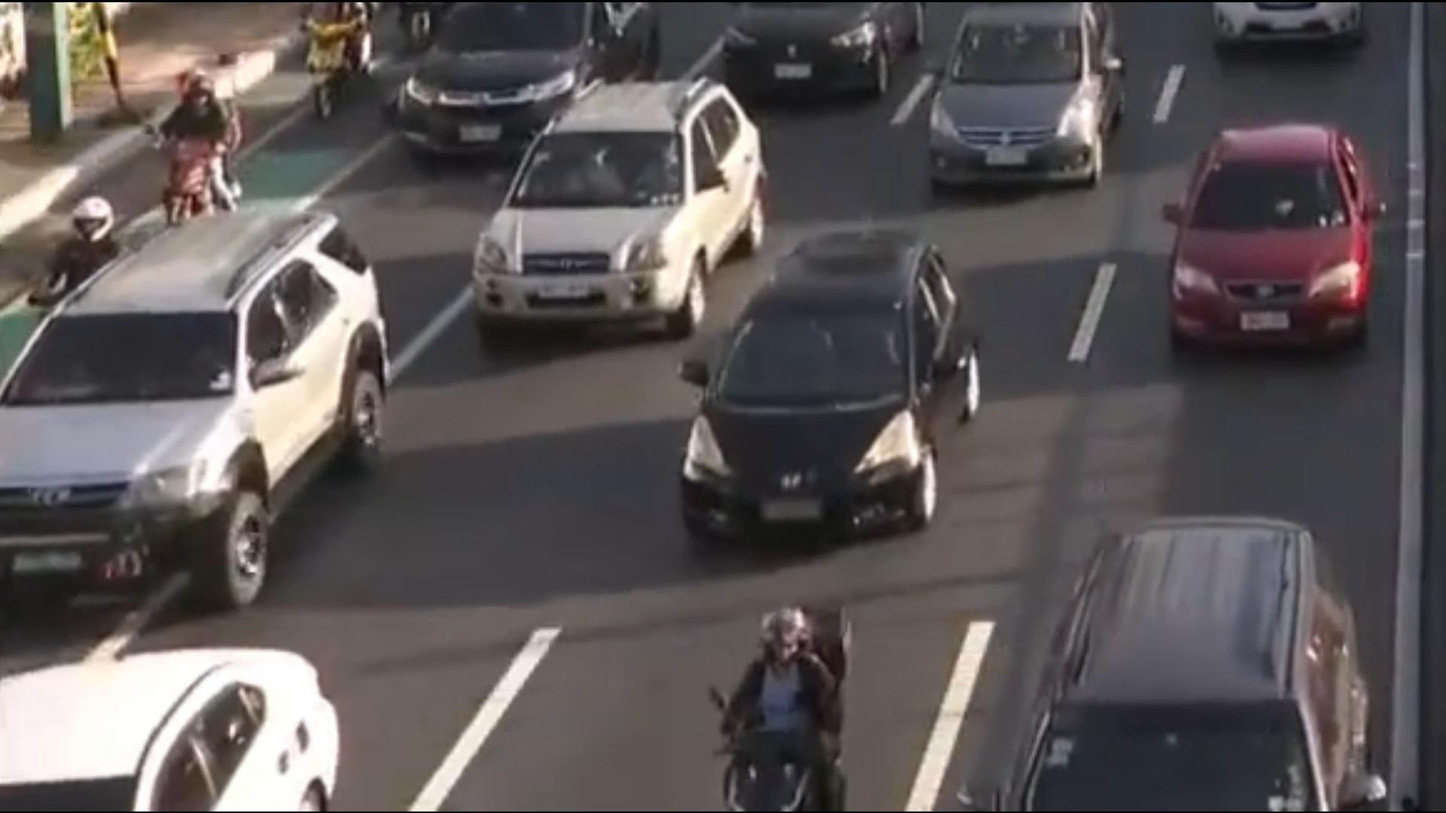Motorcycle: (699, 592, 919, 813), (146, 48, 261, 247)
SUV: (0, 170, 399, 611), (972, 468, 1430, 813), (1118, 451, 1446, 813), (456, 62, 783, 347), (391, 0, 672, 163)
Sedan: (0, 611, 386, 813), (1149, 107, 1387, 376), (910, 0, 1148, 202)
